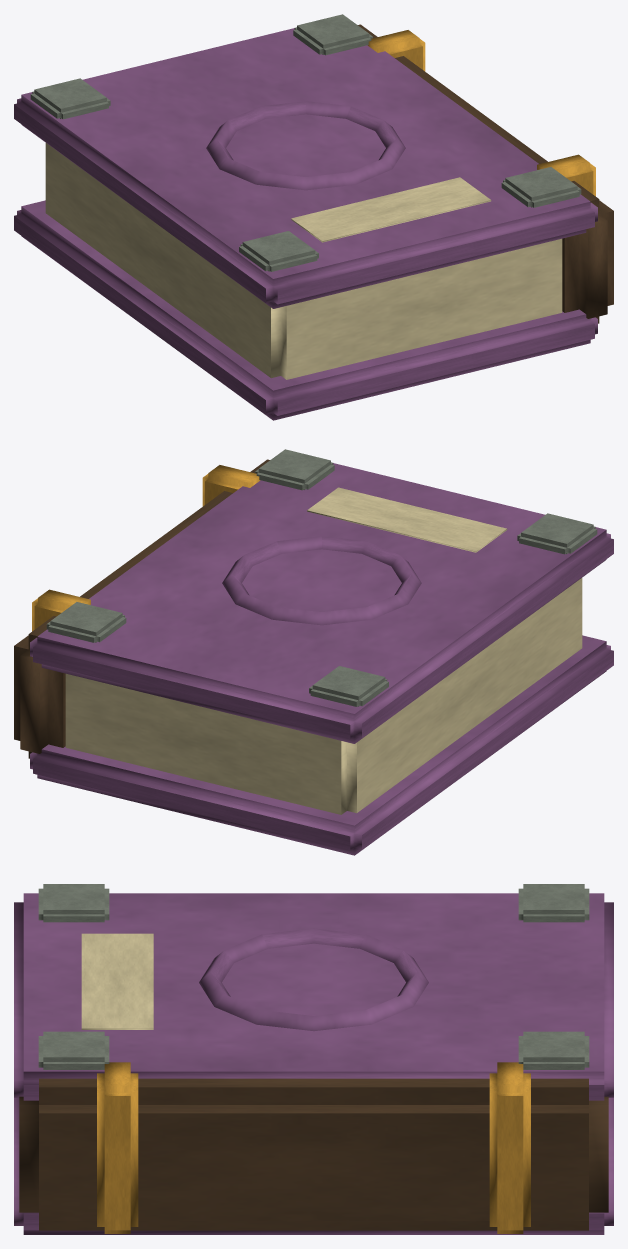
Rendered from item-StillHeartGrimoire.fbx.
The picture shows the model from 3 angles, top to bottom: view 1: azimuth 30°, elevation 25°; view 2: azimuth 150°, elevation 25°; view 3: azimuth 270°, elevation 25°; orthographic projection. The views are drawn at different scales.
Parts seen in each view (by area): view 1: item-StillHeartGrimoire__Geometry; view 2: item-StillHeartGrimoire__Geometry; view 3: item-StillHeartGrimoire__Geometry.
Boxes of the visible parts, x1=… form: item-StillHeartGrimoire__Geometry: x1=14, y1=14, x2=613, y2=420; item-StillHeartGrimoire__Geometry: x1=14, y1=449, x2=613, y2=855; item-StillHeartGrimoire__Geometry: x1=14, y1=884, x2=613, y2=1234.
Size of the model in its own units: 0.445 by 0.177 by 0.55.
1 material, 1 textured.
